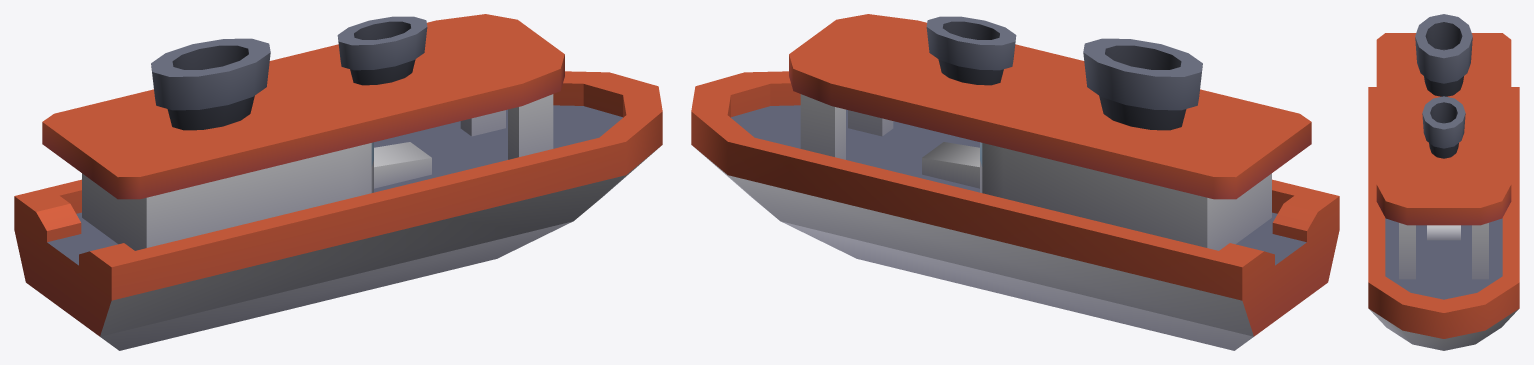
The model's file is ferry.glb.
3 renders of one model, left to right at view 1: azimuth 30°, elevation 25°; view 2: azimuth 150°, elevation 25°; view 3: azimuth 270°, elevation 25°, orthographic. The views are drawn at different scales.
Visible parts, largest first — view 1: mesh; view 2: mesh; view 3: mesh.
Part boxes in pixels (bbox=[...]): mesh: bbox=[14, 14, 662, 350]; mesh: bbox=[691, 14, 1339, 350]; mesh: bbox=[1368, 14, 1519, 350].
Bounding box in the file's own units: 30 × 11.99 × 8.49.
